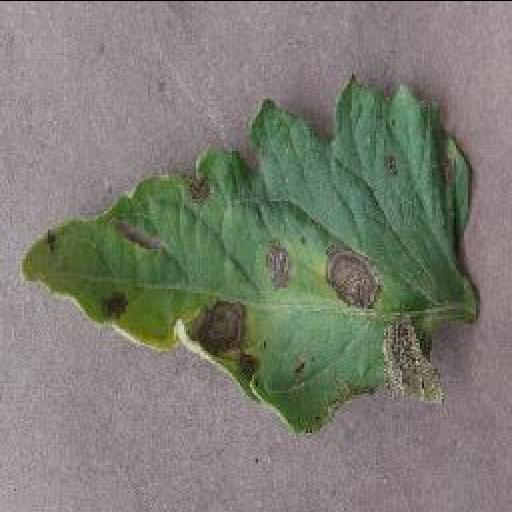disease_tomato: (21, 76, 479, 428)
